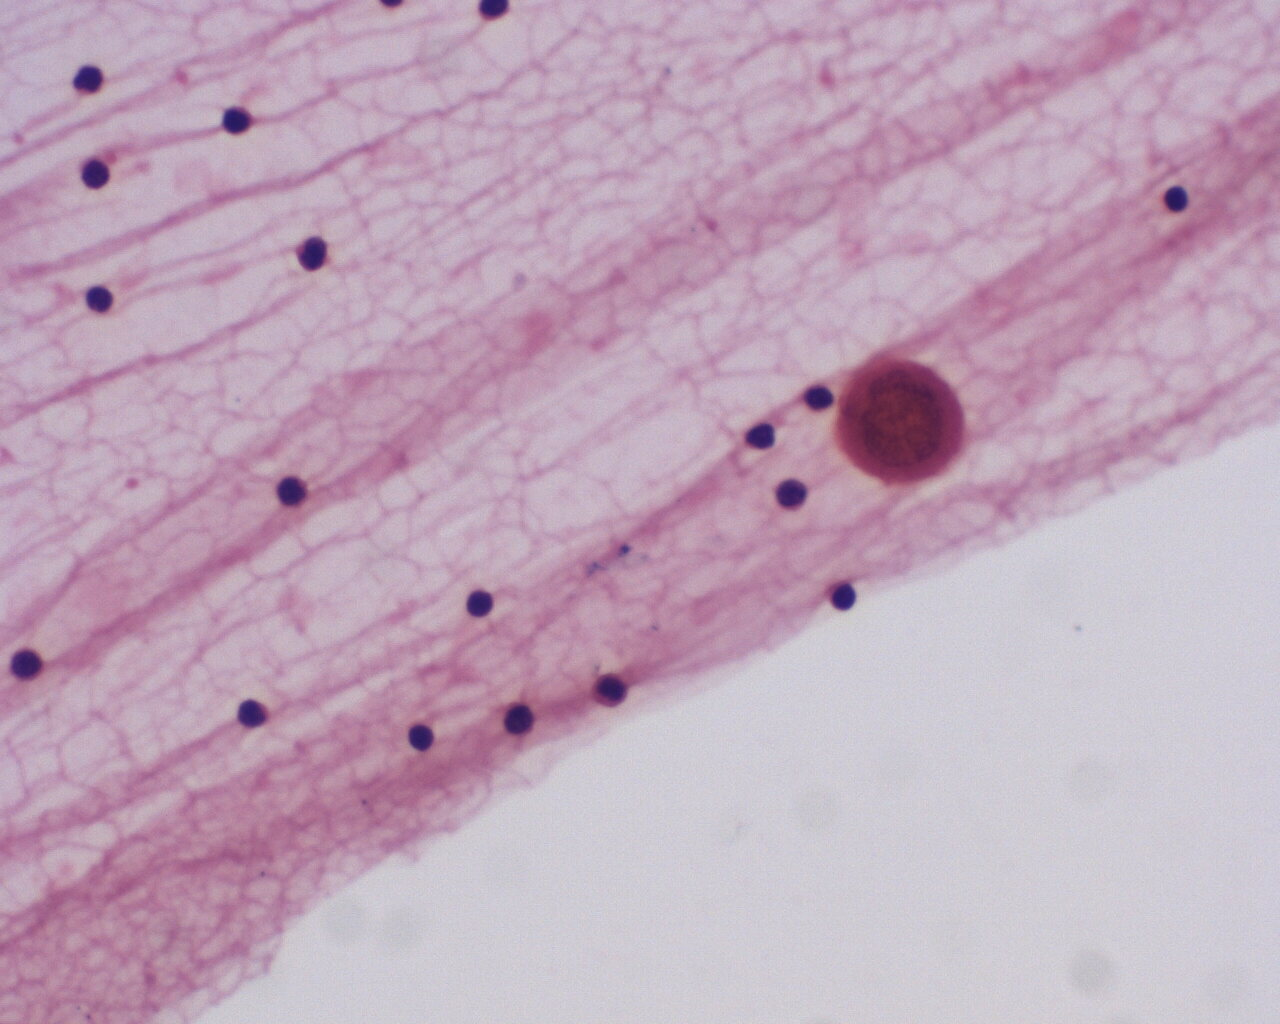ab: (838, 356, 965, 492)
lymph: (494, 694, 542, 740), (8, 641, 48, 686), (765, 476, 809, 517), (290, 229, 333, 270), (218, 98, 255, 139), (80, 281, 117, 319), (1159, 180, 1193, 218), (271, 472, 310, 506), (68, 62, 104, 97), (238, 695, 274, 729), (79, 155, 113, 191), (461, 586, 496, 619), (405, 719, 435, 758), (827, 577, 860, 610)
